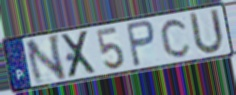5: (94, 24, 126, 72)
C: (159, 17, 194, 60)
N: (24, 32, 69, 87)
P: (124, 19, 157, 68)
U: (187, 7, 226, 57)
X: (60, 28, 99, 80)
